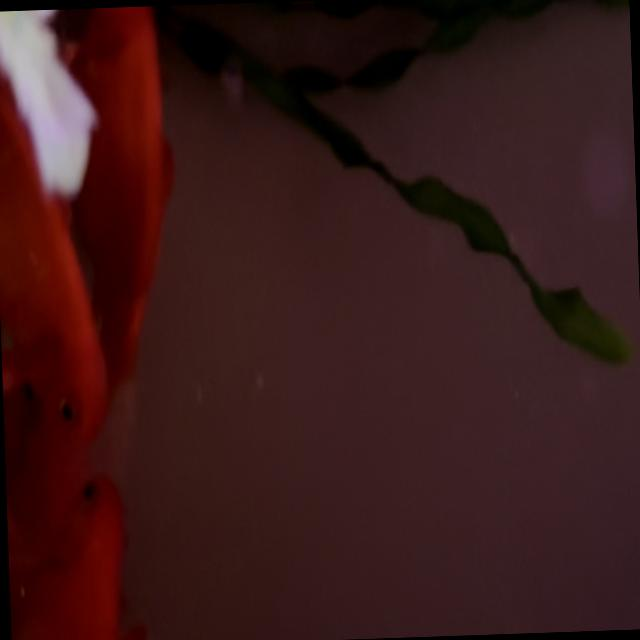fish: (53, 5, 180, 418), (0, 8, 109, 463), (5, 471, 141, 640)
